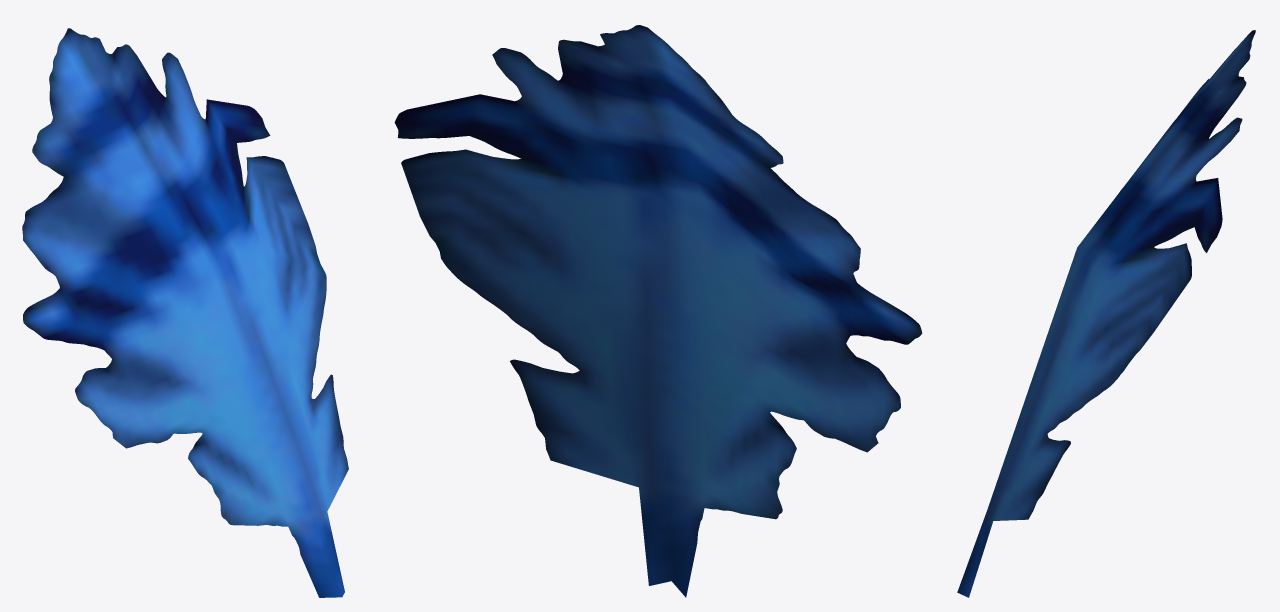
File: Aku_pazul.obj
3 renders of one model, left to right at view 1: azimuth 30°, elevation 25°; view 2: azimuth 150°, elevation 25°; view 3: azimuth 270°, elevation 25°, orthographic. The views are drawn at different scales.
Visible parts, largest first — view 1: AkuAku.006; view 2: AkuAku.006; view 3: AkuAku.006.
Part boxes in pixels (x1,y1,x2,y2): AkuAku.006: [22, 28, 348, 597]; AkuAku.006: [394, 25, 922, 597]; AkuAku.006: [957, 30, 1255, 597].
Bounding box in the file's own units: 8.59 × 13.24 × 7.2.
